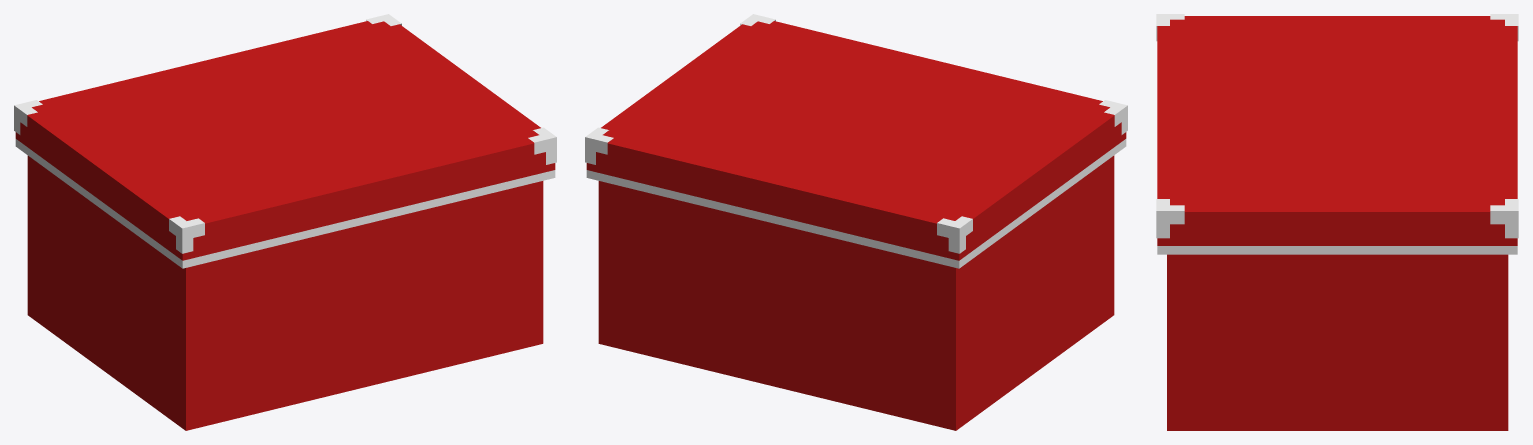
Rendered from Box_Red.FBX.
3 views of the same model, side by side, from view 1: azimuth 30°, elevation 25°; view 2: azimuth 150°, elevation 25°; view 3: azimuth 270°, elevation 25° (orthographic). The views are drawn at different scales.
Visible parts, largest first — view 1: Box_Red; view 2: Box_Red; view 3: Box_Red.
Part boxes in pixels (box(x1,y1,x2,y2)): Box_Red: box(14, 14, 556, 430); Box_Red: box(585, 14, 1127, 430); Box_Red: box(1156, 14, 1518, 430).
Size of the model in its own units: 0.6362 by 0.3378 by 0.4947.
